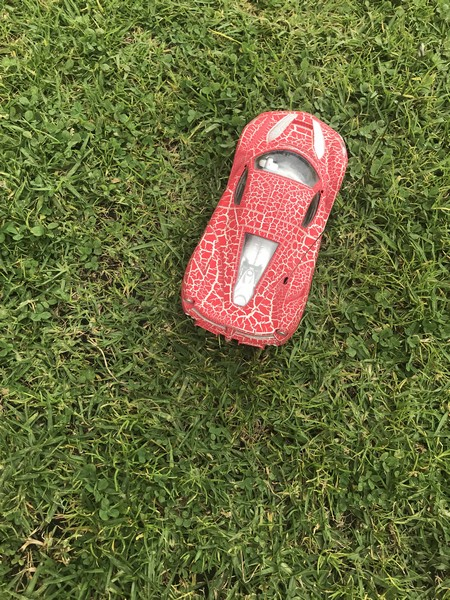RC: (180, 108, 351, 354)
